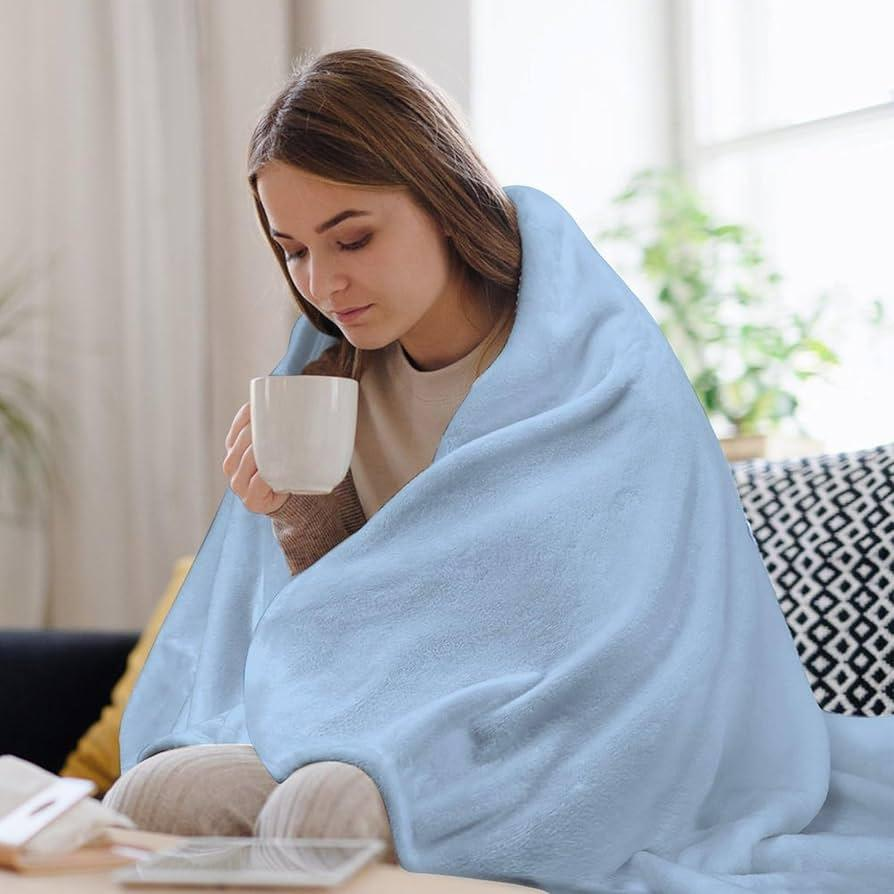blanket: (112, 180, 894, 894)
sweater: (268, 317, 519, 579)
trousers: (94, 740, 396, 894)
